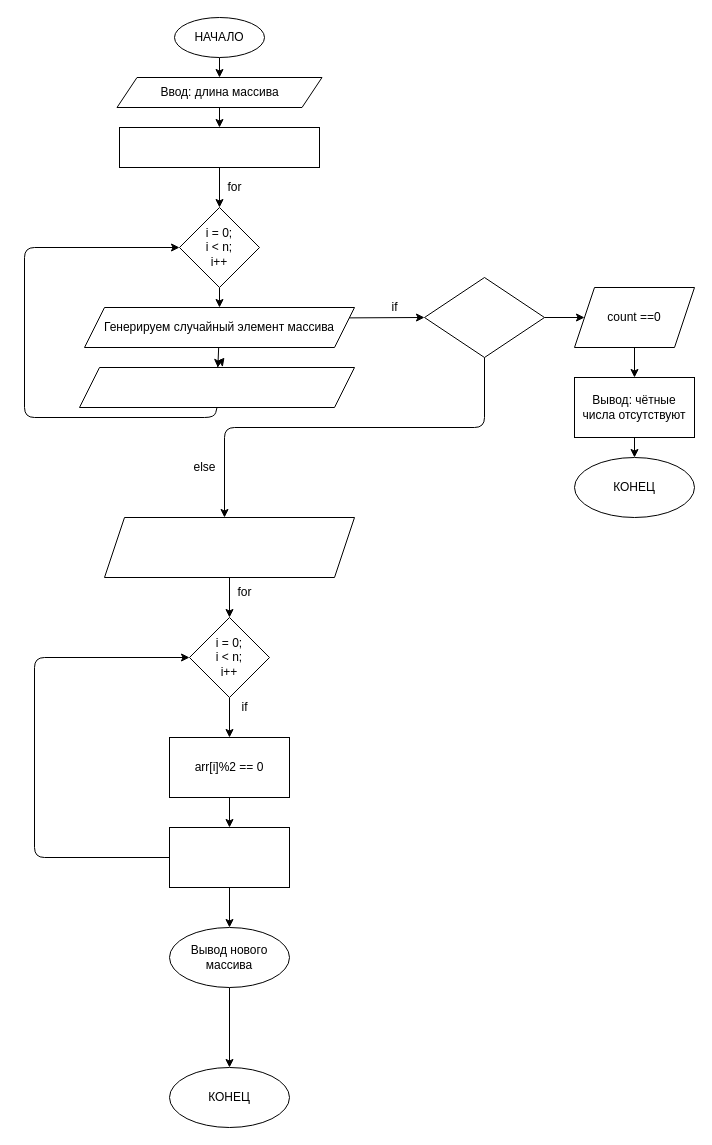
Image size: 712x1145. Some labels were removed from this diagram. The box of each missing label's shape, as (x1, y1, x2, y2) in pixels:
arr[i] % 2 == 0 count ++: (424, 276, 544, 358)
j: элемент нового массива newArray: новый массив: (104, 516, 354, 578)
n: длина массива count:количество четных чисел: (118, 126, 320, 168)
newArray[j] = arr[i]: (168, 826, 290, 888)
Вывод элемента массива: (78, 366, 354, 408)
